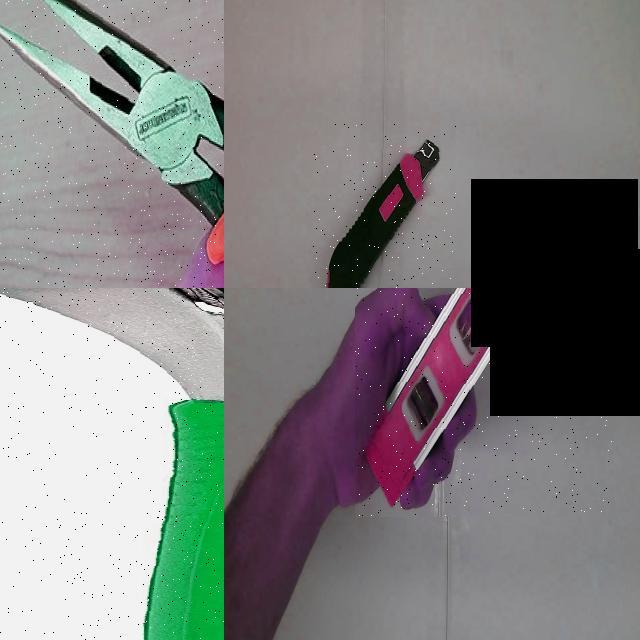estilete: (327, 141, 438, 287)
